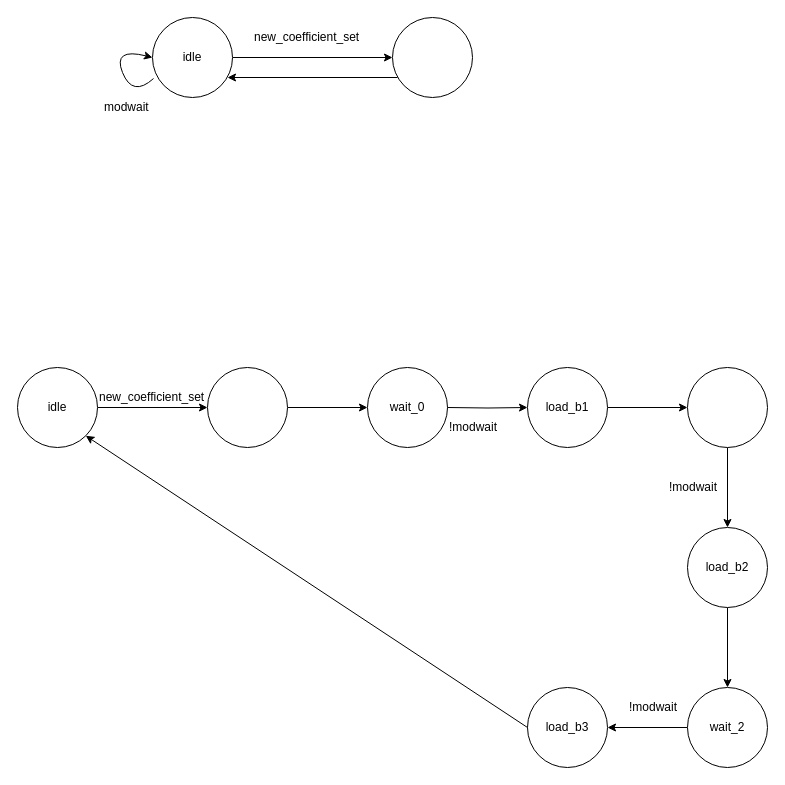
Image size: 785x785. Some labels were removed from this diagram. Each missing label, with the centre of its shape:
"load" goes at point (432, 57).
"load_b0" goes at point (247, 407).
"wait_1" goes at point (727, 407).
